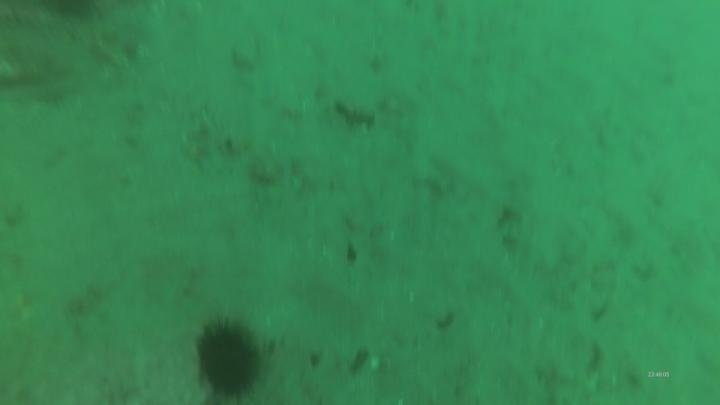echinus: (189, 315, 268, 403)
